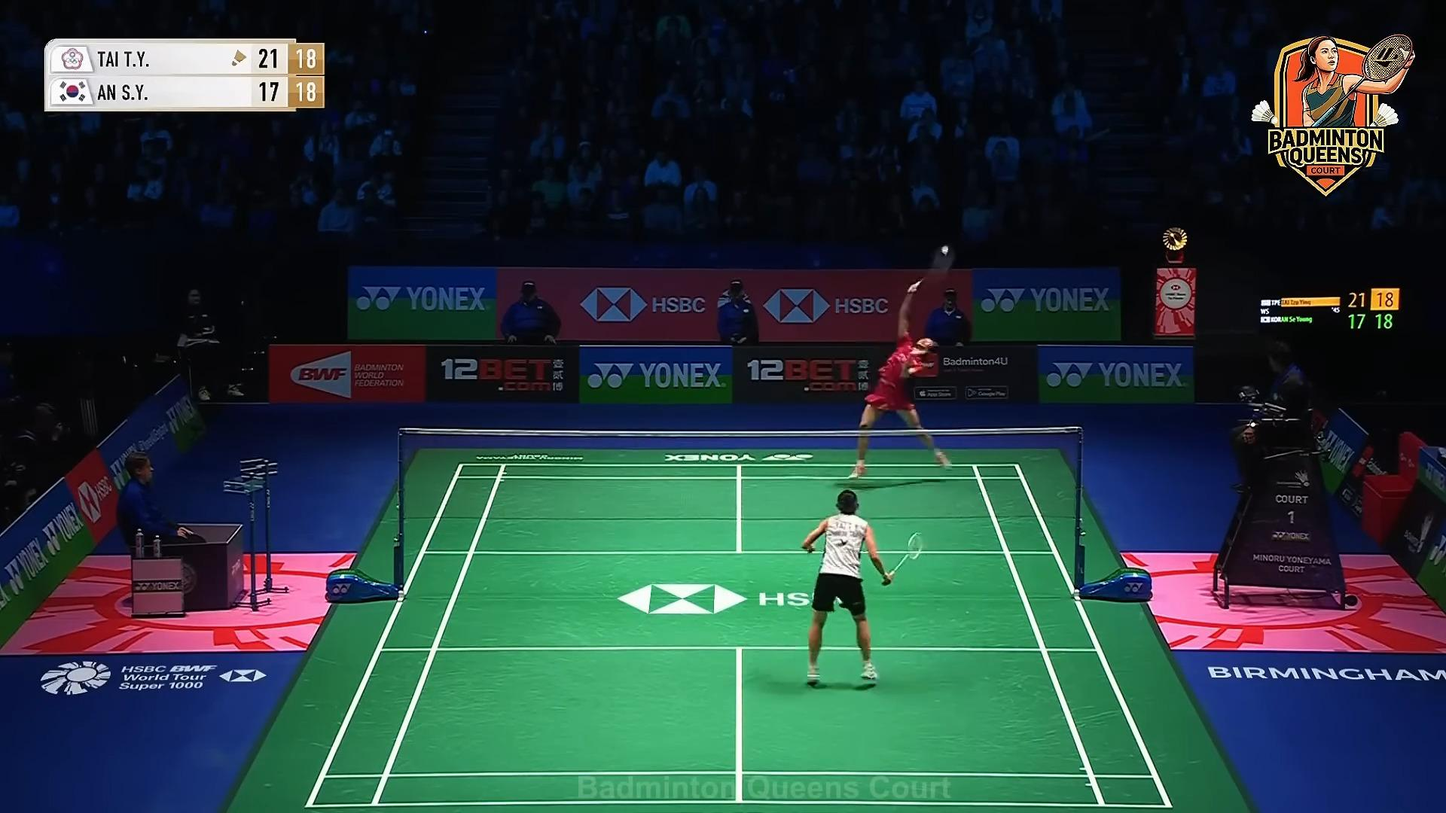shuttlecock: (941, 245, 950, 256)
